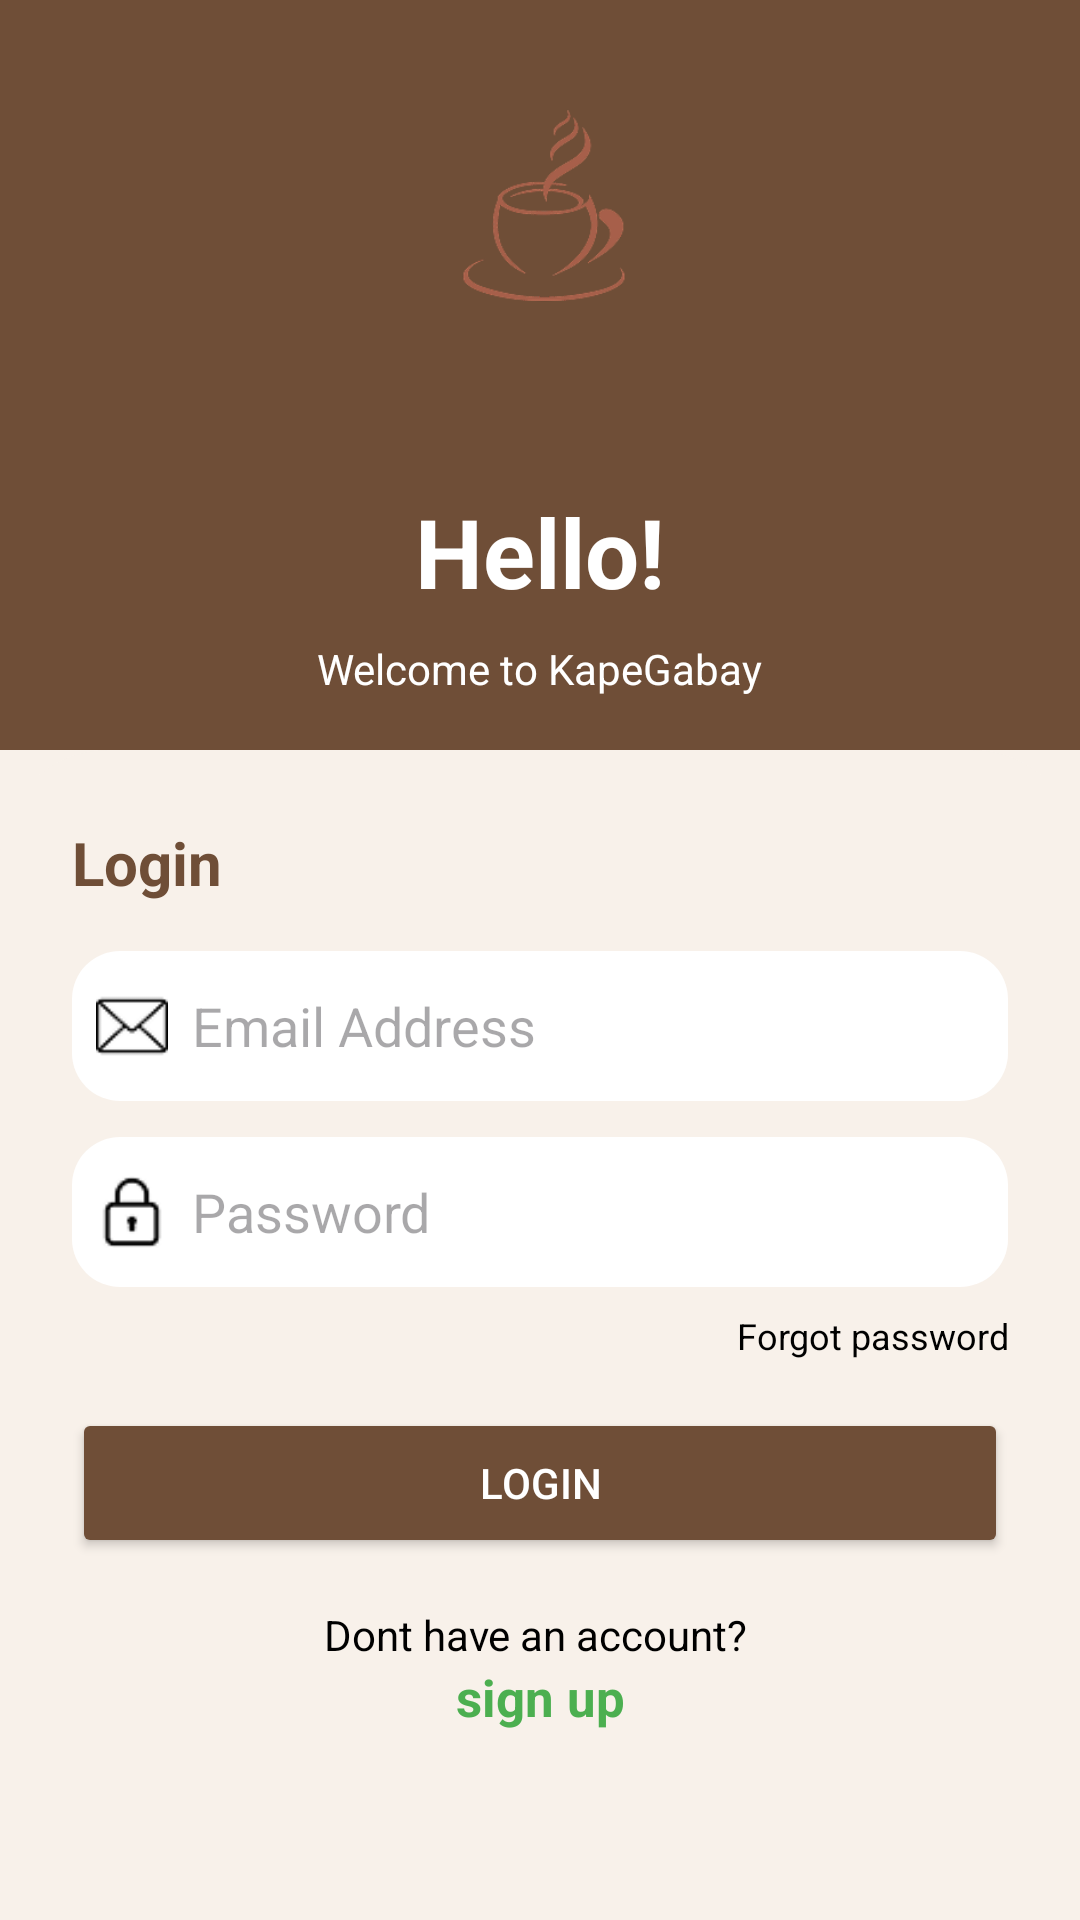

Screen size 1080x1920. Icon name, then its center in pixels as (x,y):
coffee: (544,205)
